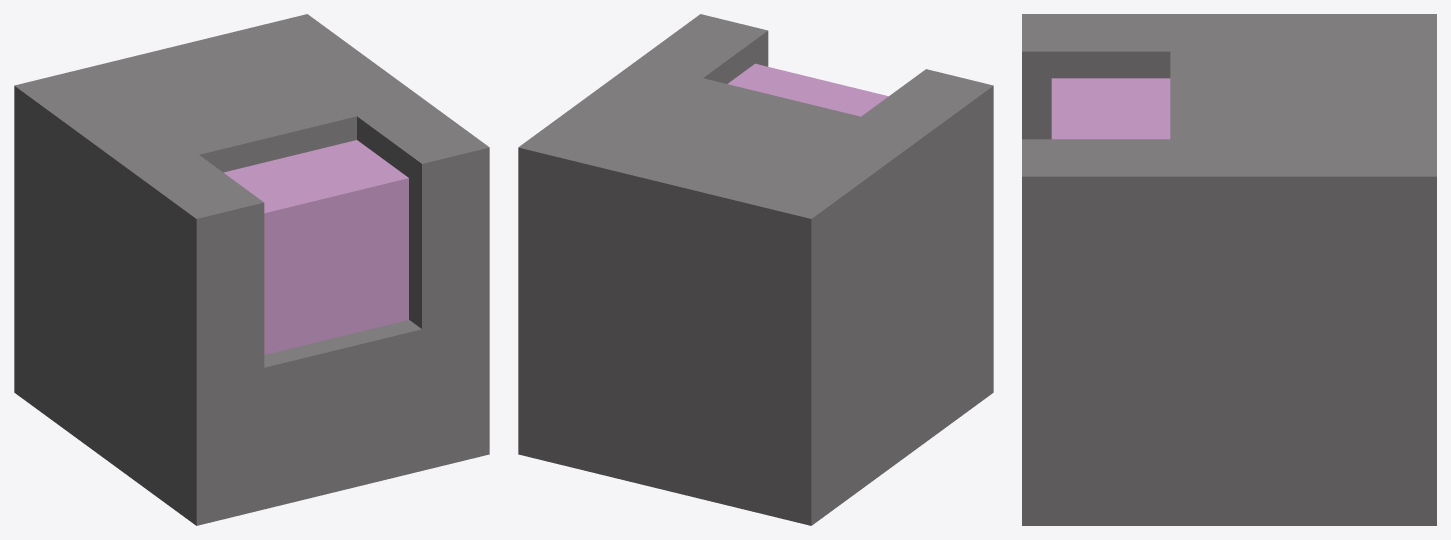
Rendered from obsticle.fbx.
3 views of the same model, side by side, from view 1: azimuth 30°, elevation 25°; view 2: azimuth 150°, elevation 25°; view 3: azimuth 270°, elevation 25° (orthographic). The views are drawn at different scales.
Parts seen in each view (by area): view 1: obsticle; view 2: obsticle; view 3: obsticle.
Boxes of the visible parts, x1,y1,x2,y2 form: obsticle: (14,14,489,525); obsticle: (518,14,993,525); obsticle: (1022,14,1436,525).
Size of the model in its own units: 130 by 130 by 140.
